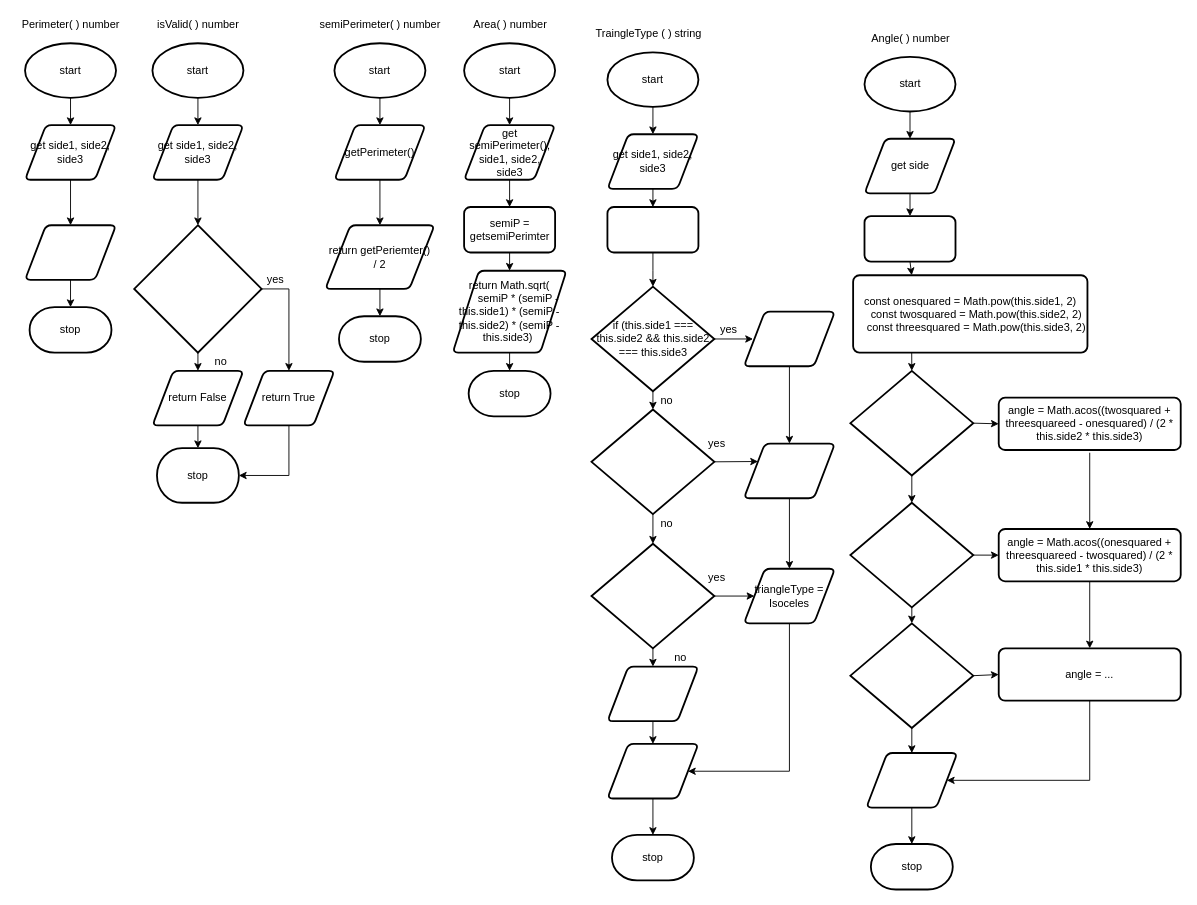
Image size: 1197x905. Some labels were removed from this diagram. Here are the shapes that lost their labels. From the top down, the box of each, then its label:
(606, 206, 699, 253): let triangleType
(863, 215, 956, 262): let angle: number
(24, 224, 116, 280): return side1 + side2 + side3
(133, 224, 262, 353): if( side1 + side2 > side3 && side1 + side3 > side2 && side2 + side3 > side1)
(743, 310, 835, 367): triangleType = Equilateral
(849, 369, 974, 476): if (side === 1)
(590, 408, 715, 515): if ( this.side1 ** 2 + this.side2 ** 2 === this.side3 ** 2 || ...
(743, 442, 835, 499): triangleType = Right Angle
(849, 501, 974, 608): if (side === 2)
(590, 542, 715, 649): if ( this.side1 === this.side2 && this.side2 === ...
(606, 665, 699, 722): triangleType = Scalene
(849, 622, 974, 728): if (side === 3)
(606, 743, 699, 799): return triangleType
(865, 752, 958, 808): return angle
